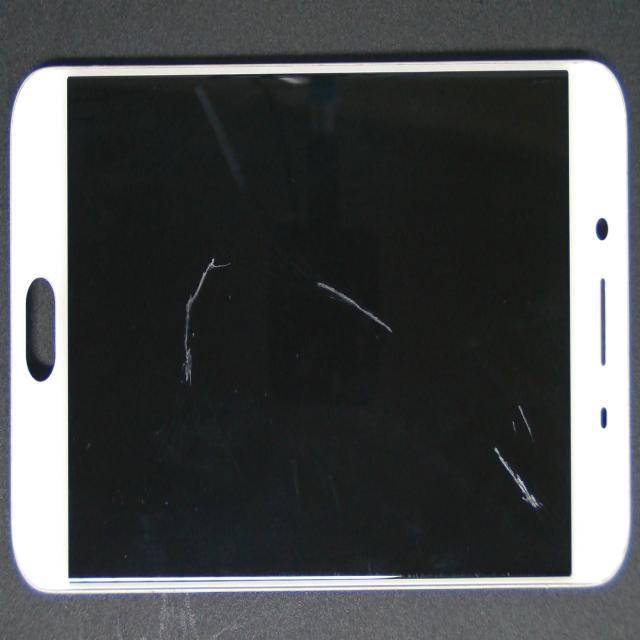scratch: (181, 255, 224, 383), (315, 280, 393, 338), (492, 453, 541, 513), (507, 402, 536, 446), (269, 74, 317, 90)
